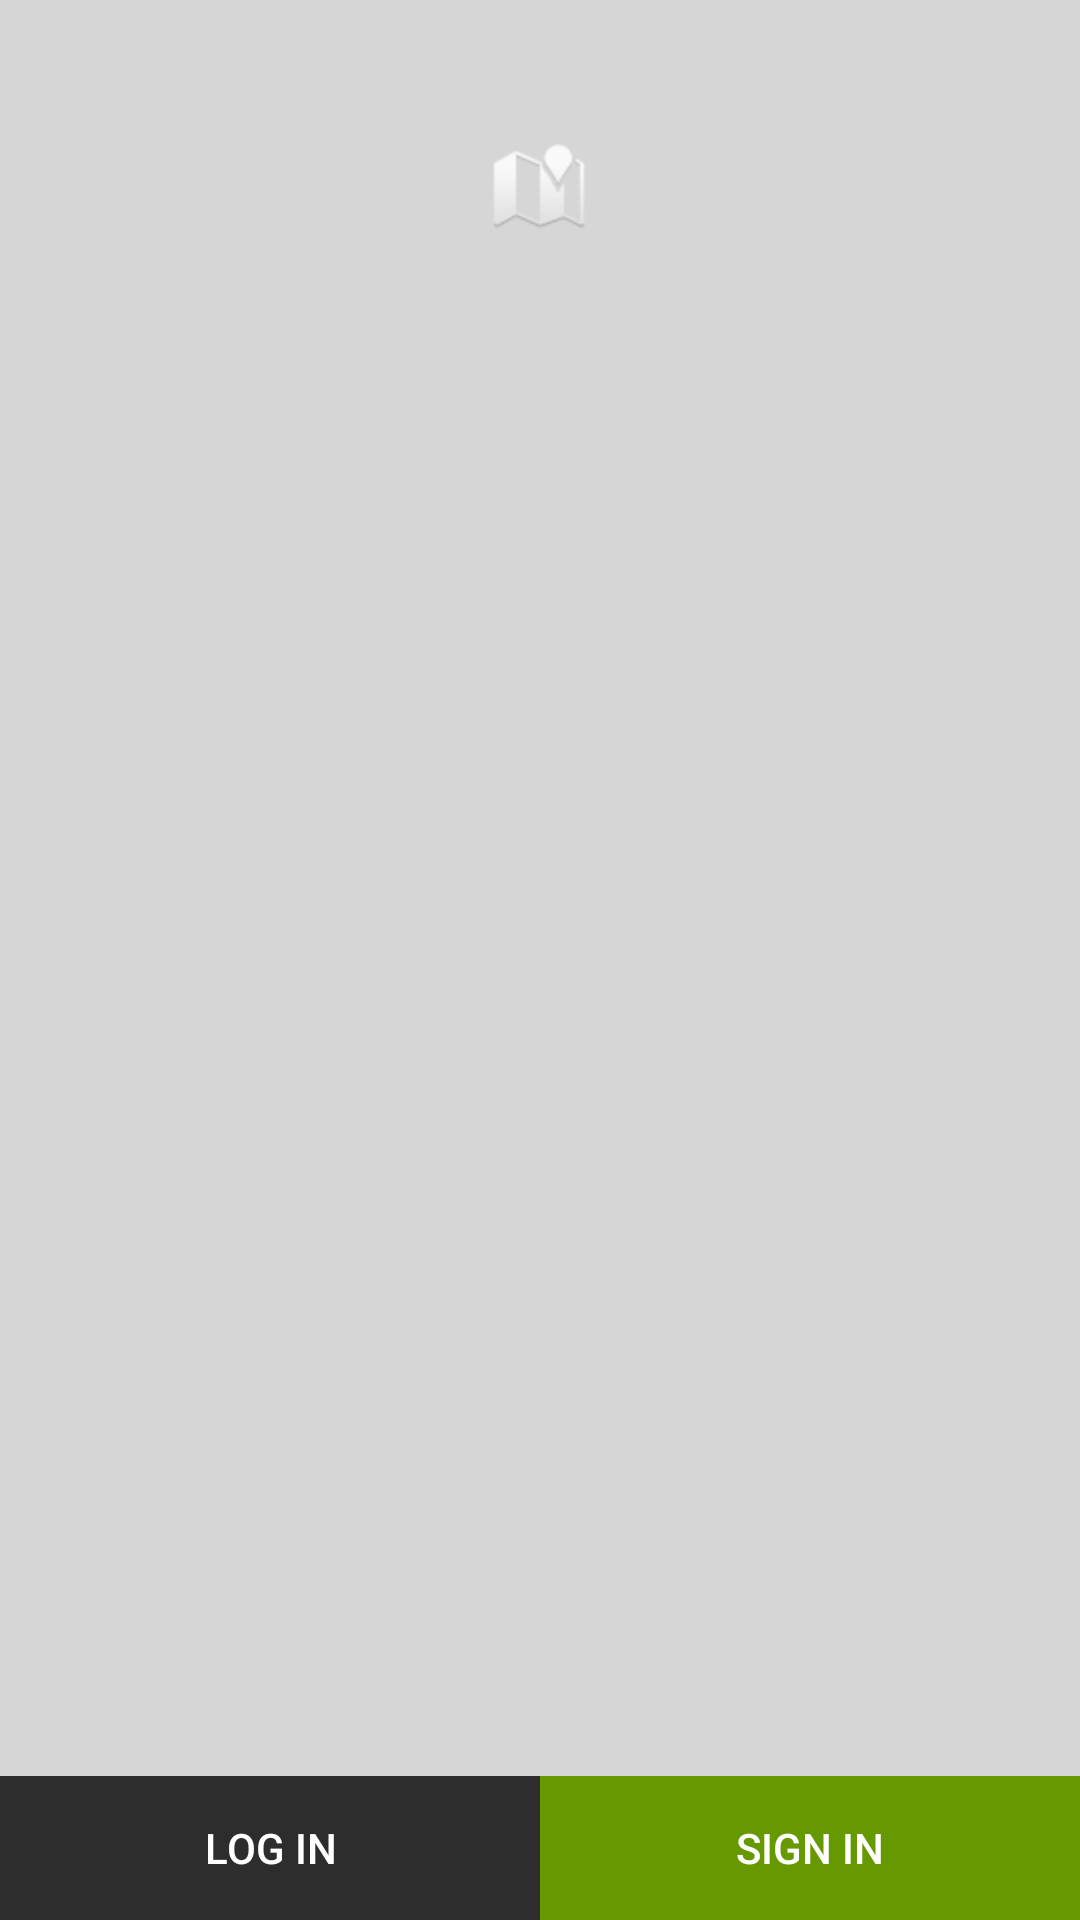

Named icons in this screenshot (1080 × 1920) and their centers, point (x, y):
map: point (539, 186)
